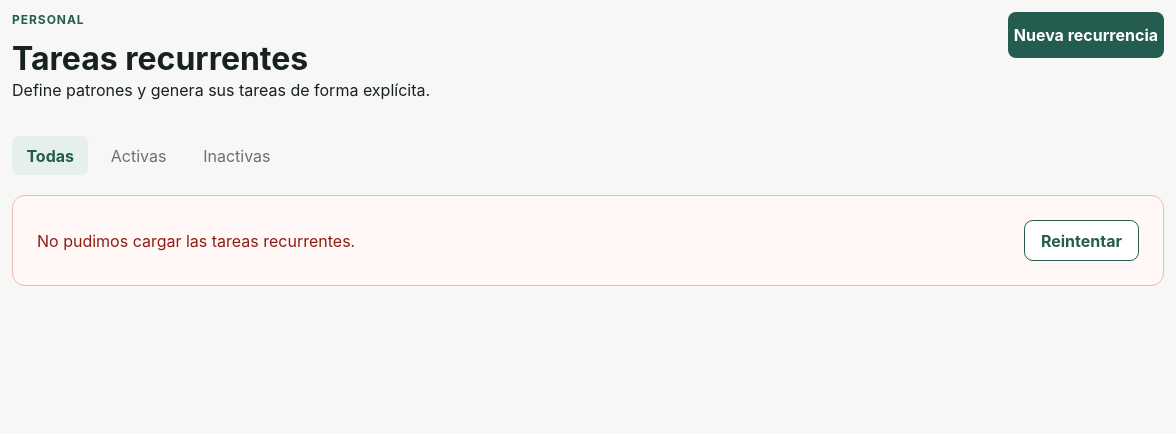
Test: RecurringTasksPage › retries list failures
Expected: the text "No pudimos cargar las tareas recurrentes." is shown, [37,231,355,251]
Click the button "Reintentar" at (1081, 241), box [1024,220,1139,261]
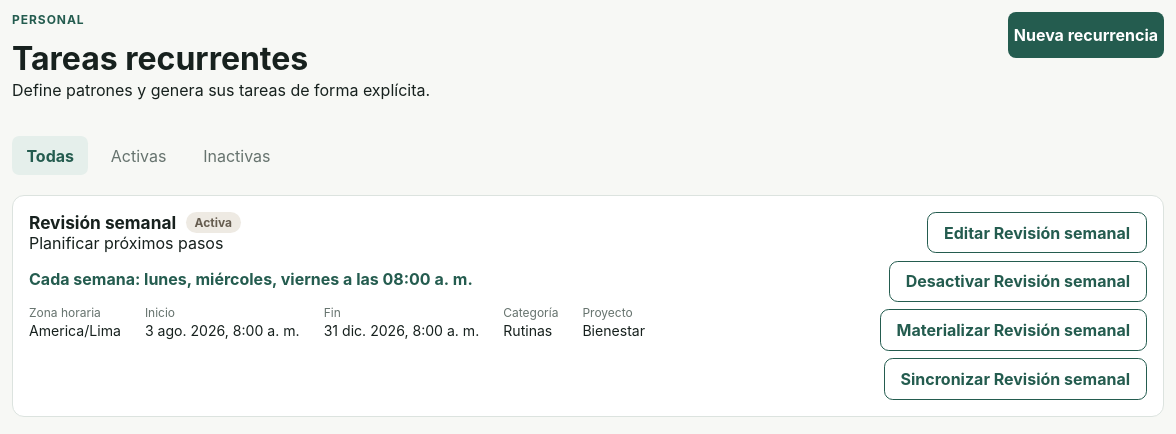
Now the heading "Revisión semanal" is shown, box [29,212,176,233]
